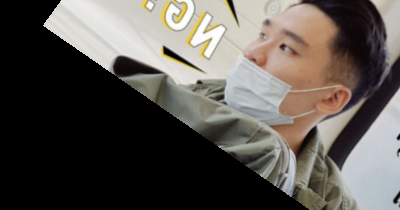mask_weared_incorrect: (224, 3, 392, 142)
